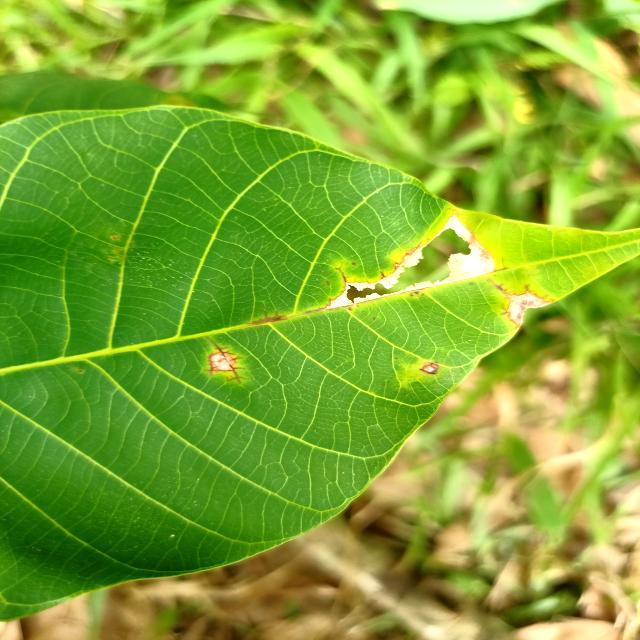Corynespora: (202, 335, 247, 385)
Leaf-Blight: (328, 214, 496, 308), (506, 294, 554, 328)
